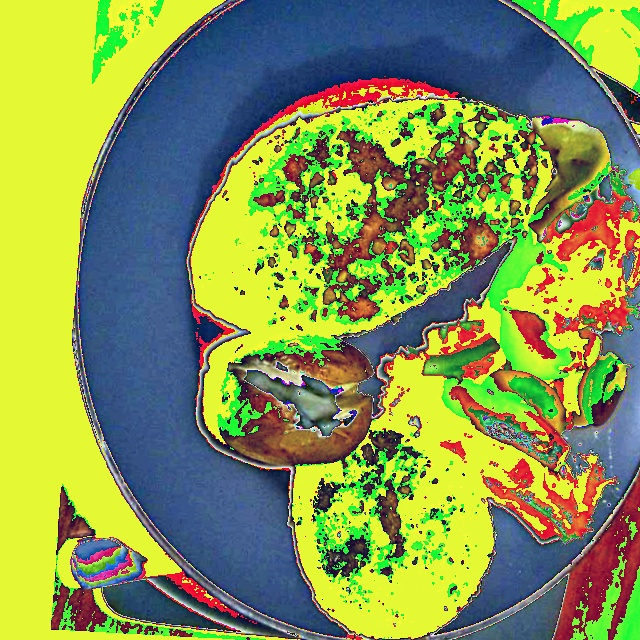background: (196, 98, 639, 639)
